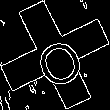O_NW: (24, 23, 86, 87)
